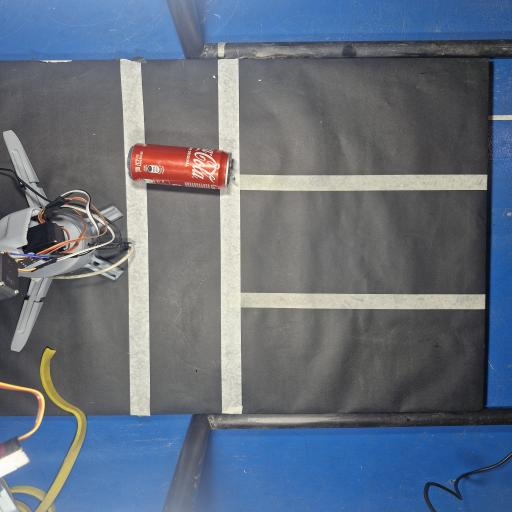lata: (127, 143, 236, 190)
